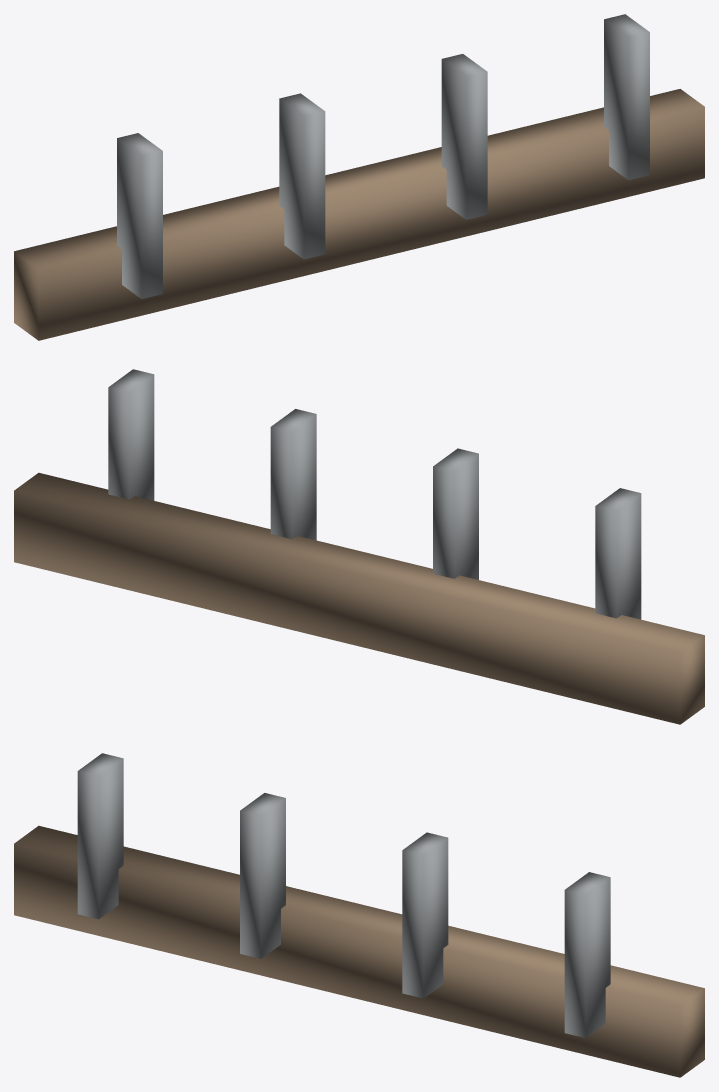
The model's file is door_coat_hook.glb.
The picture shows the model from 3 angles, top to bottom: view 1: azimuth 30°, elevation 25°; view 2: azimuth 150°, elevation 25°; view 3: azimuth 330°, elevation 25°; orthographic projection.
Visible parts, largest first — view 1: world; view 2: world; view 3: world.
Boxes of the visible parts, x1,y1,x2,y2 form: world: [14, 14, 704, 340]; world: [14, 369, 704, 724]; world: [14, 753, 704, 1077].
Bounding box in the file's own units: 0.78 × 0.2 × 0.09.
